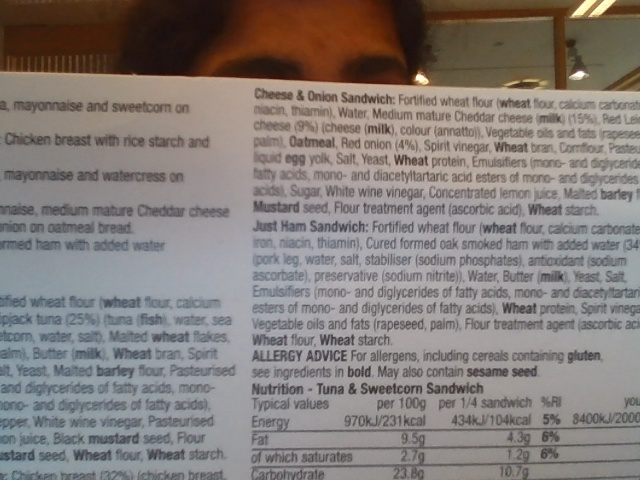egg: (284, 153, 309, 169)
wheat: (146, 445, 187, 462), (528, 201, 564, 218), (501, 300, 539, 316), (112, 347, 155, 361), (104, 295, 143, 310), (251, 334, 291, 348), (71, 449, 114, 462), (319, 333, 356, 348), (483, 222, 520, 236), (392, 154, 429, 166)
